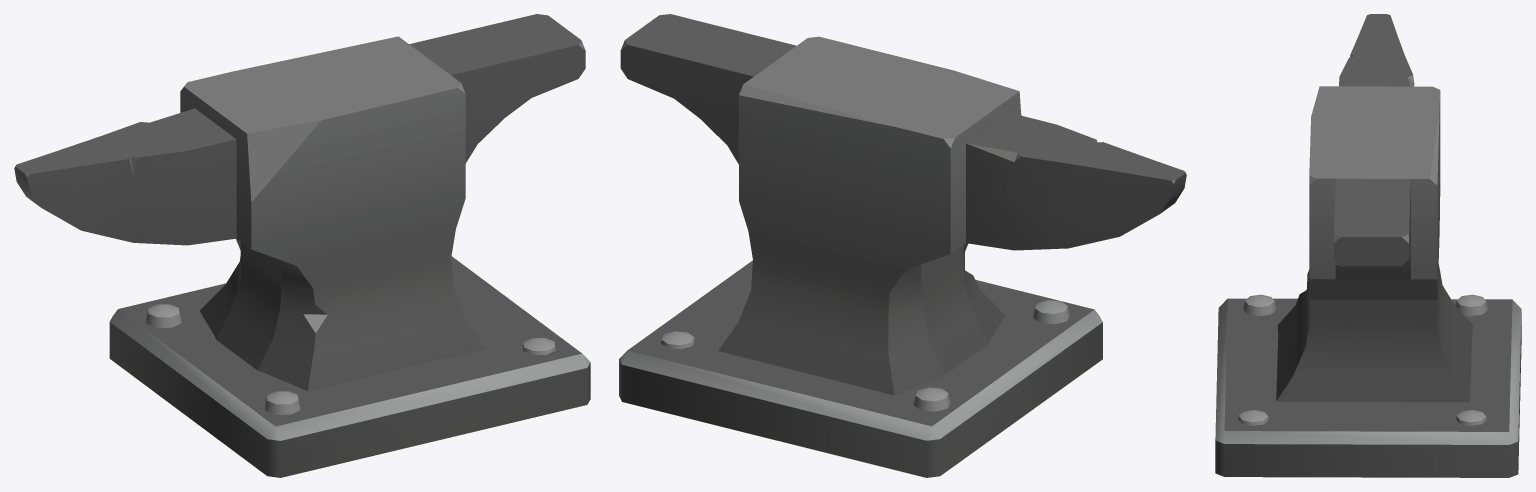
File: Ivory_B.glb
The picture shows the model from 3 angles, left to right: view 1: azimuth 30°, elevation 25°; view 2: azimuth 150°, elevation 25°; view 3: azimuth 270°, elevation 25°; orthographic projection. The views are drawn at different scales.
Visible parts, largest first — view 1: Ivory_B; view 2: Ivory_B; view 3: Ivory_B.
Boxes of the visible parts, left/top/right/bottom form: Ivory_B: left=14, top=14, right=590, bottom=477; Ivory_B: left=619, top=14, right=1186, bottom=477; Ivory_B: left=1215, top=14, right=1521, bottom=477.
Size of the model in its own units: 0.7423 by 0.3896 by 0.4085.
1 material, 1 textured.
